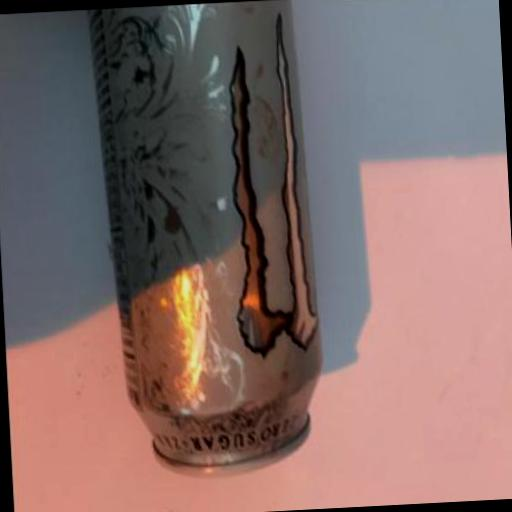metal: (86, 0, 328, 481)
